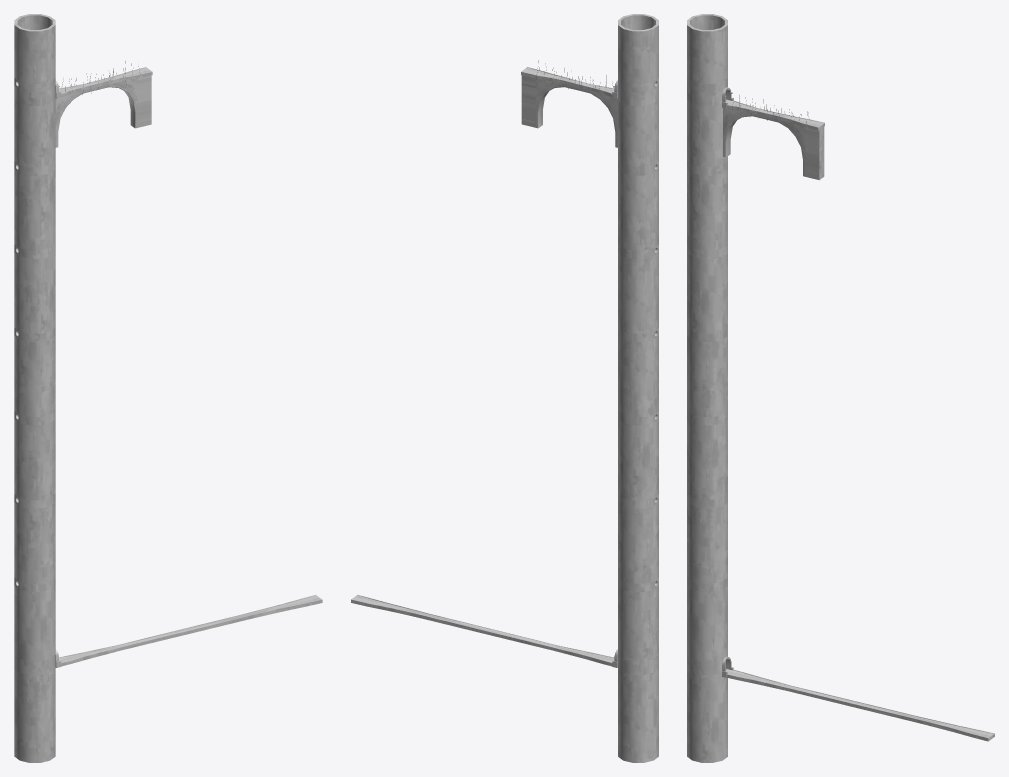
File: Level03.fbx
3 views of the same model, side by side, from view 1: azimuth 30°, elevation 25°; view 2: azimuth 150°, elevation 25°; view 3: azimuth 330°, elevation 25° (orthographic).
Visible parts, largest first — view 1: Torus.197, Cube.280, Cube.276, Cube.275; view 2: Torus.197, Cube.280, Cube.276, Cube.275; view 3: Torus.197, Cube.280, Cube.276, Cube.275.
Part boxes in pixels (x1,y1,x2,y2): Torus.197: [14, 14, 55, 762]; Cube.280: [59, 595, 322, 666]; Cube.276: [55, 75, 151, 147]; Cube.275: [59, 67, 152, 96]; Torus.197: [618, 14, 658, 762]; Cube.280: [351, 594, 617, 667]; Cube.276: [521, 75, 617, 147]; Cube.275: [521, 67, 617, 98]; Torus.197: [687, 14, 727, 762]; Cube.280: [726, 669, 994, 741]; Cube.276: [723, 108, 824, 180]; Cube.275: [726, 100, 824, 130].
Size of the model in its own units: 16889 by 39103 by 1991.
